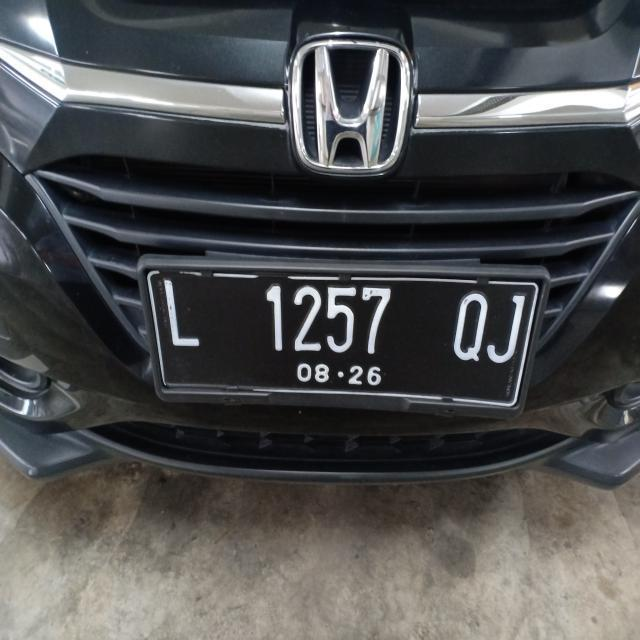1: (262, 279, 286, 362)
2: (288, 281, 326, 352)
5: (328, 286, 360, 359)
7: (358, 288, 392, 359)
J: (486, 290, 528, 368)
L: (153, 274, 205, 359)
Q: (450, 286, 488, 368)
